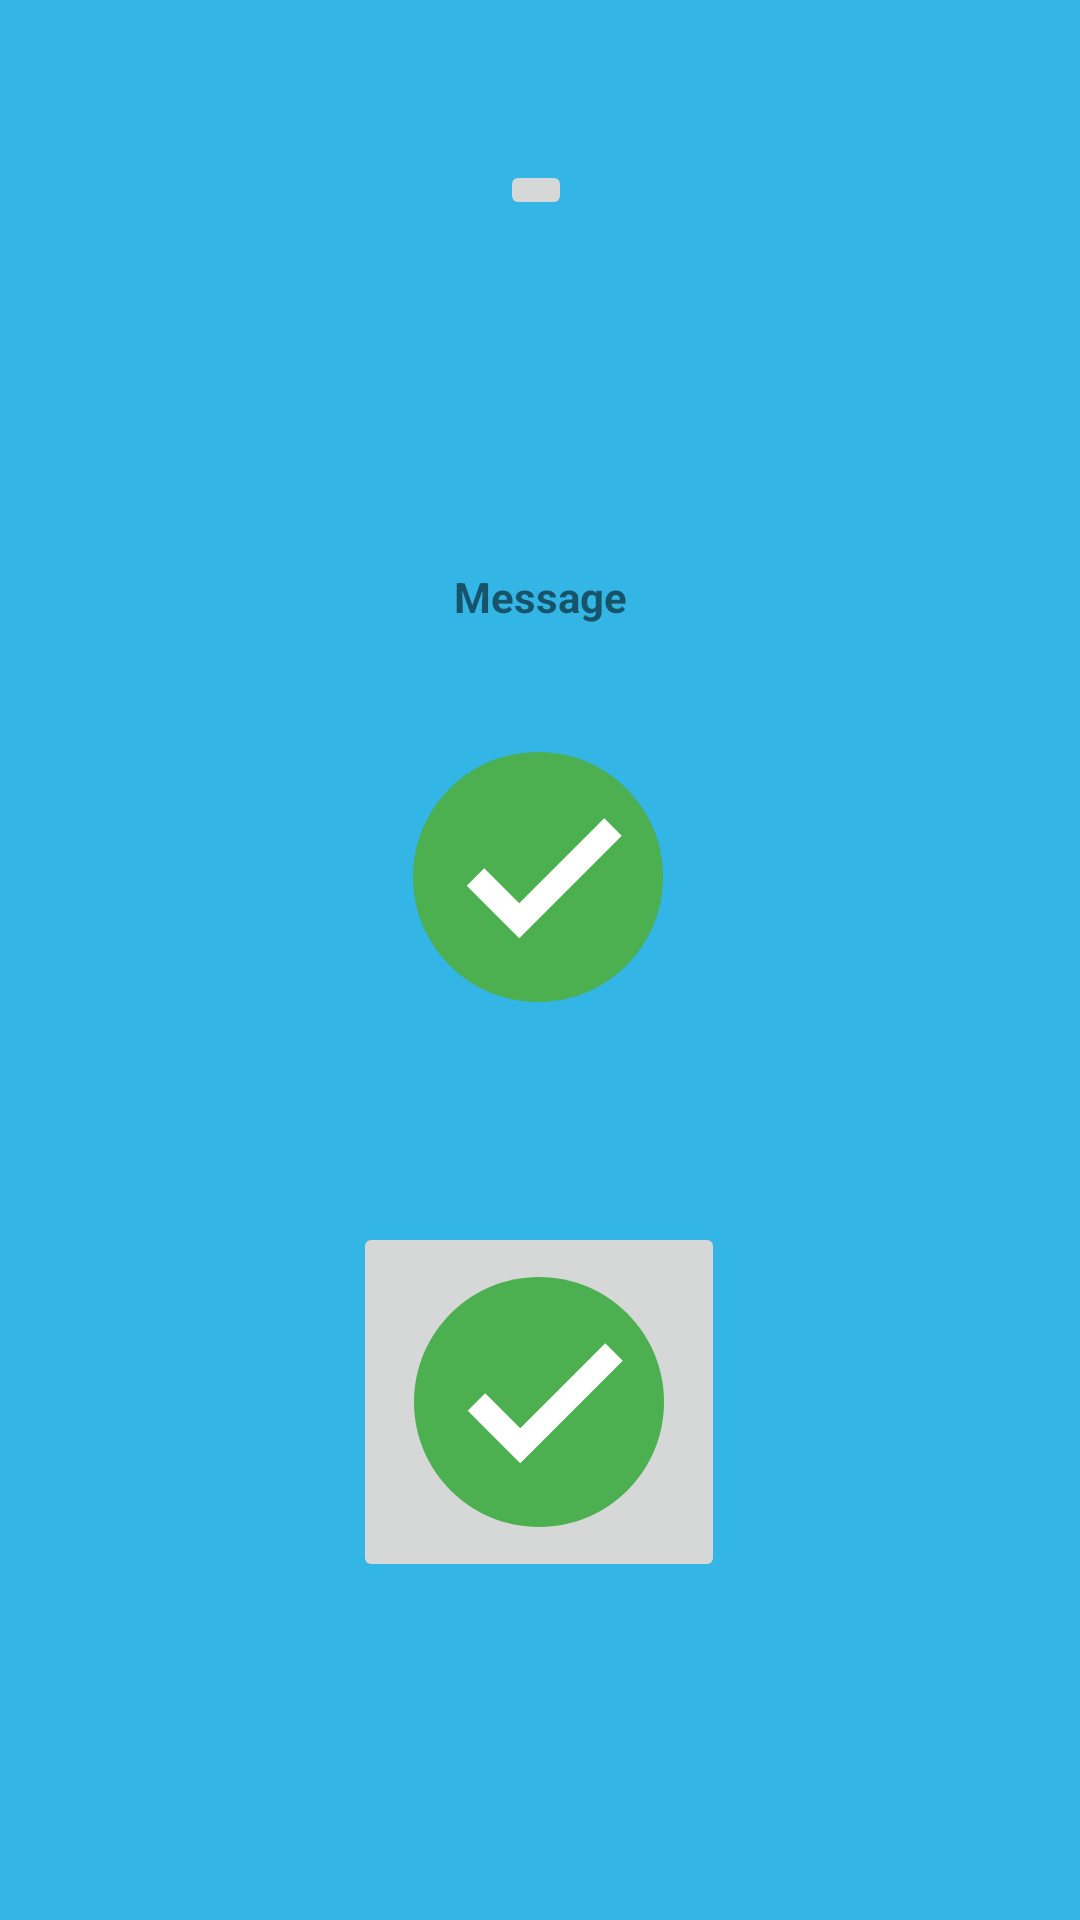

Icons on this 1080w x 1920h Android screen, each with its box as (x1, y1, x2, y2):
tickverde: (413, 752, 663, 1002)
